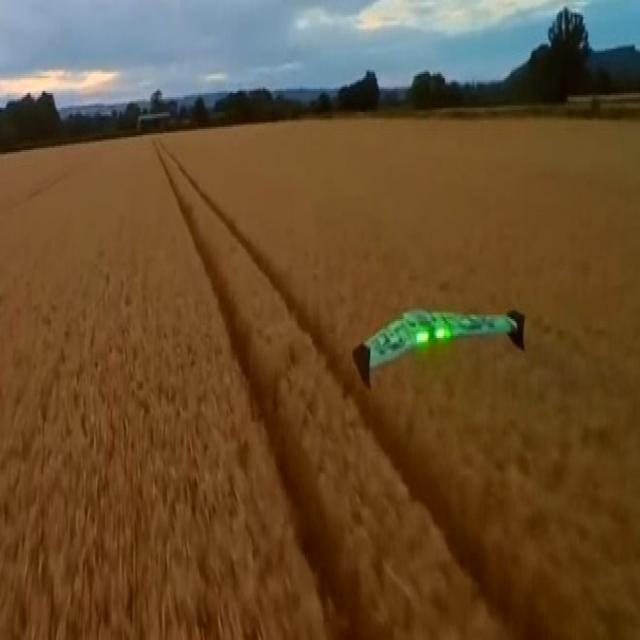iha: (348, 314, 532, 355)
